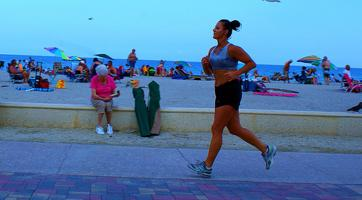person: (191, 19, 277, 177)
